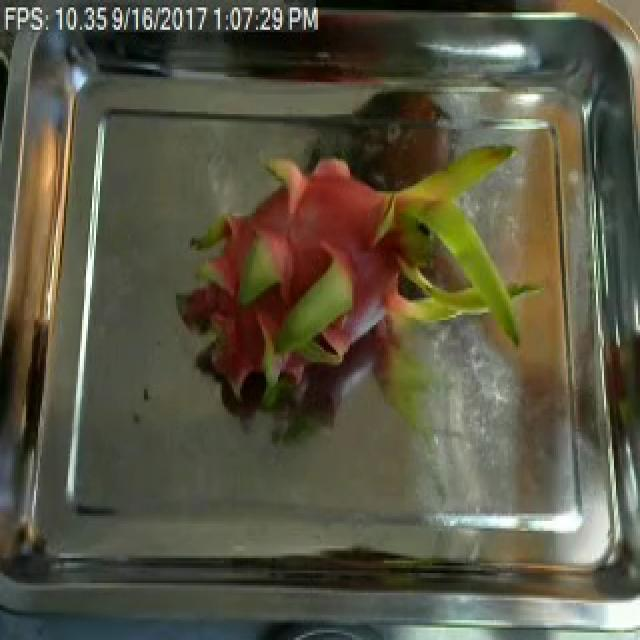fruit: (154, 104, 550, 462)
